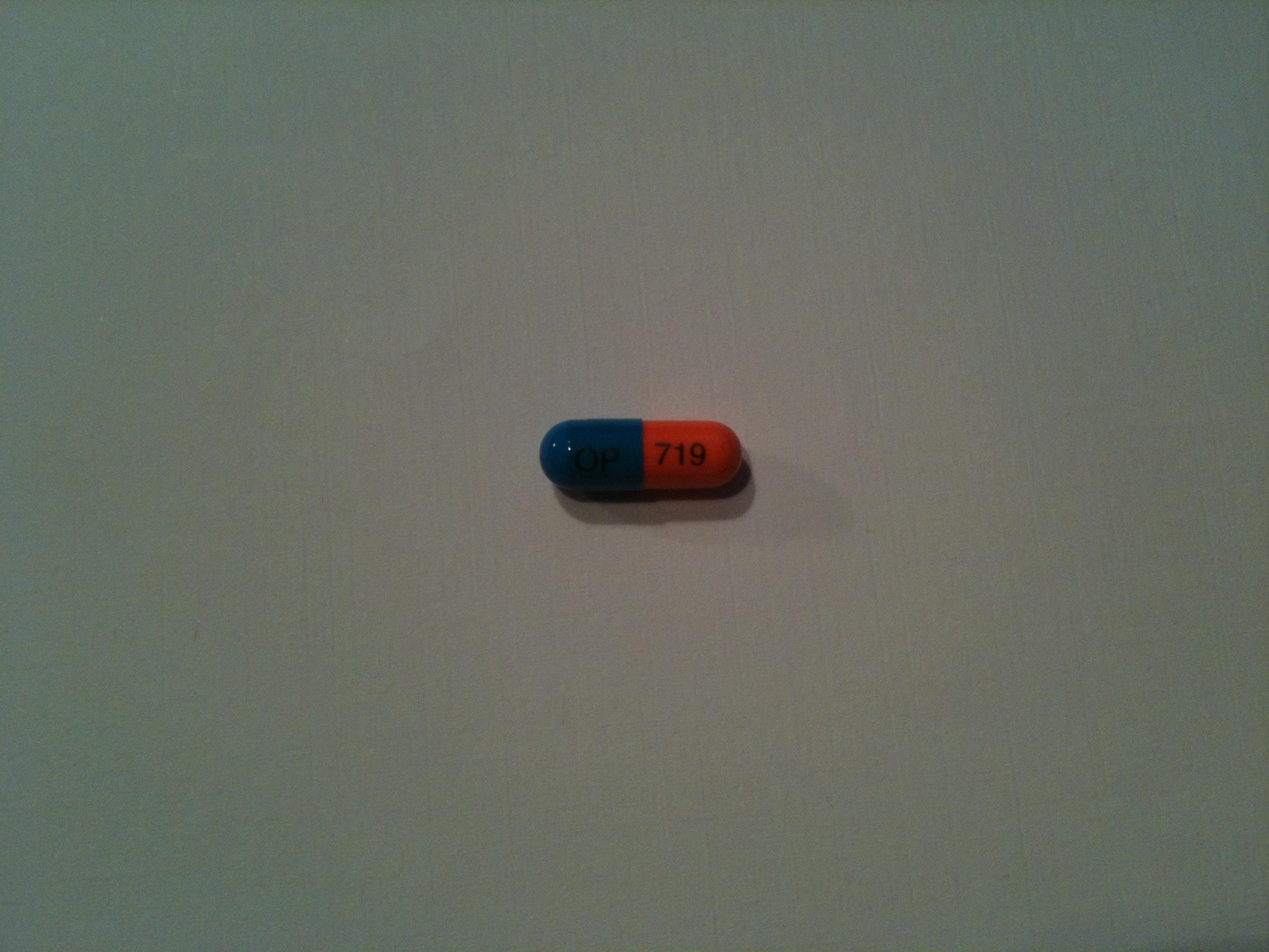Pill: (533, 411, 750, 504)
